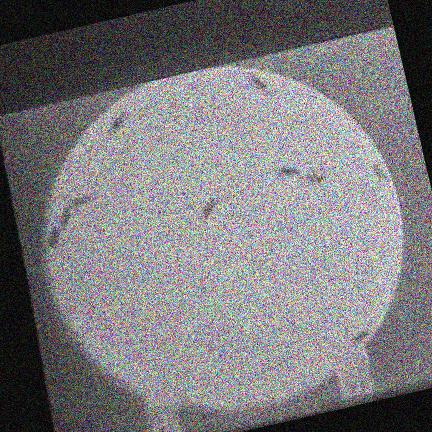fly: (107, 111, 125, 134), (249, 74, 270, 93), (199, 197, 217, 219), (57, 206, 70, 231), (68, 194, 91, 208), (302, 171, 326, 183), (275, 165, 300, 176), (351, 330, 368, 345), (46, 228, 58, 249), (372, 163, 387, 179)
